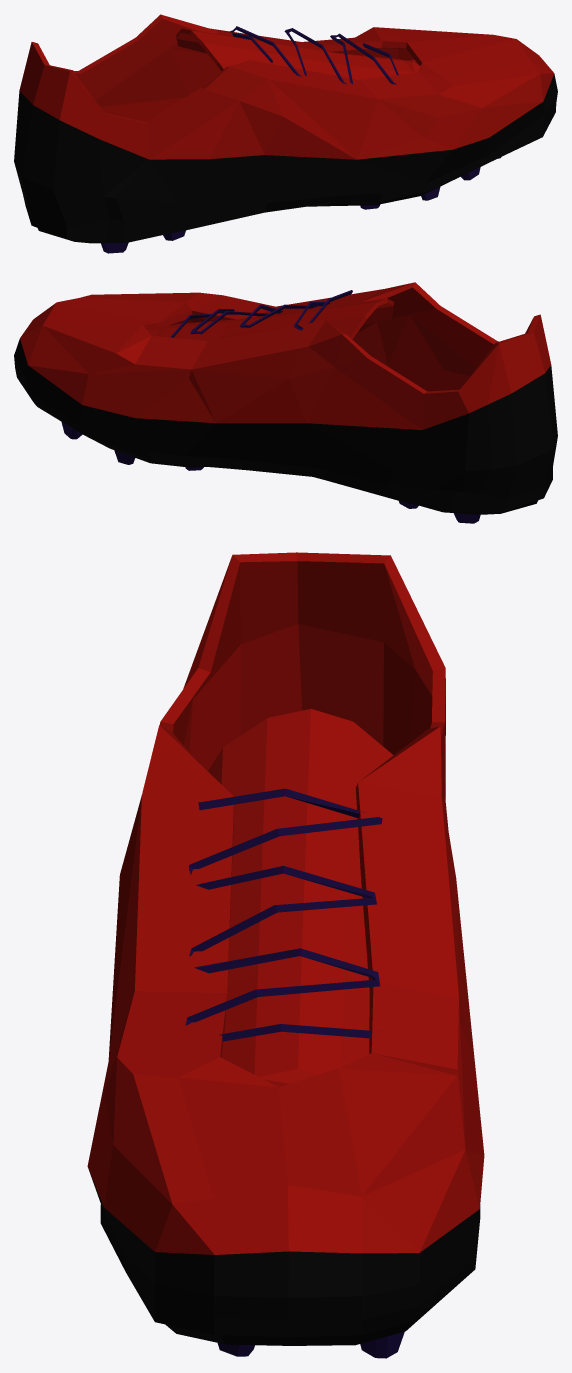
Rendered from red.glb.
3 views of the same model, one above another, from view 1: azimuth 30°, elevation 25°; view 2: azimuth 150°, elevation 25°; view 3: azimuth 270°, elevation 25° (orthographic). The views are drawn at different scales.
Visible parts, largest first — view 1: Red; view 2: Red; view 3: Red.
Boxes of the visible parts, left/top/right/bottom form: Red: left=14, top=14, right=557, bottom=253; Red: left=14, top=282, right=557, bottom=523; Red: left=87, top=552, right=484, bottom=1358.
Size of the model in its own units: 1.73 by 0.6391 by 0.5703.
